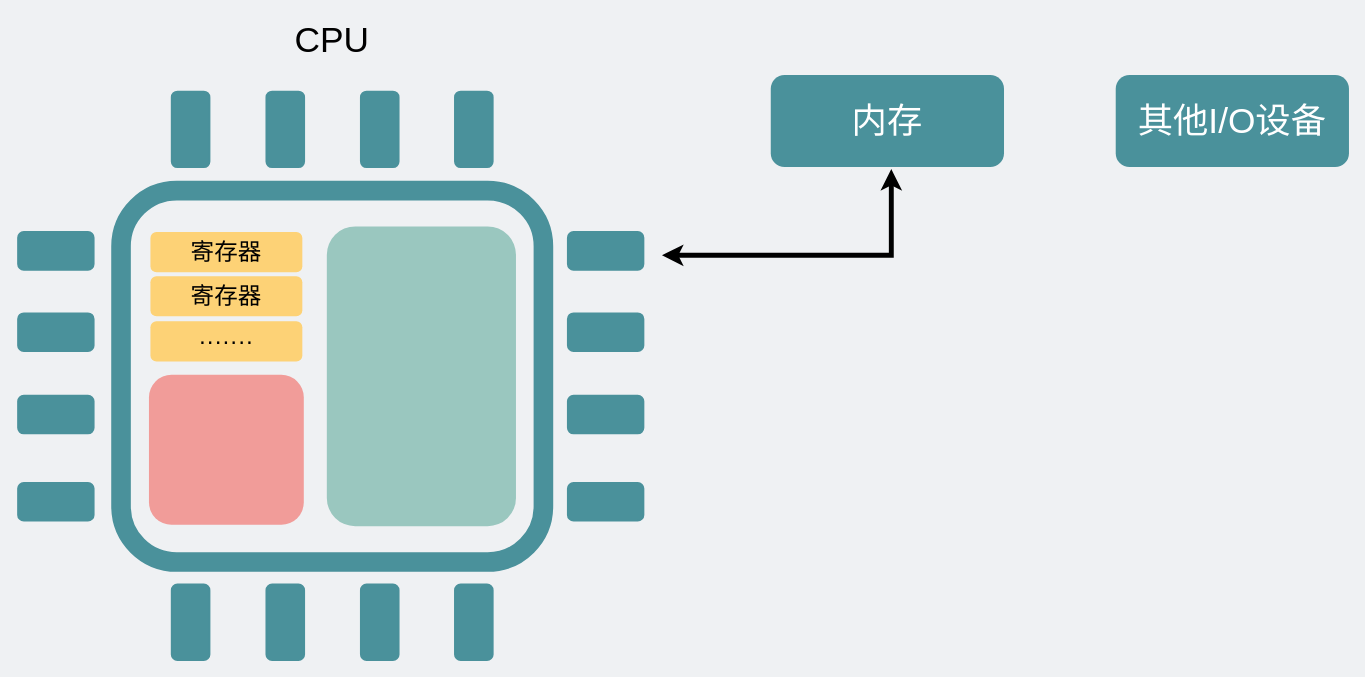
This 1365x677 diagram has some shape labels left out. Here are the shapes that lost their labels. From the top down, the centre of each, then its label:
At [420,376]: "控制单元".
At [225,449]: "算数逻辑单元".
